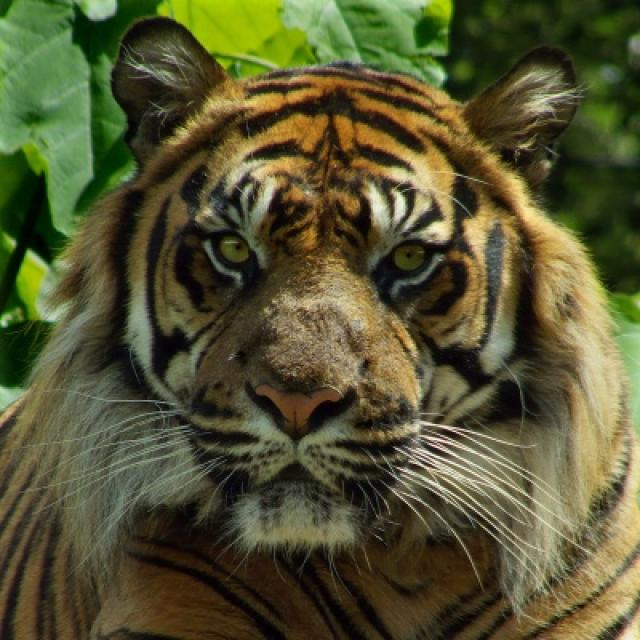Tiger: (6, 9, 638, 634)
